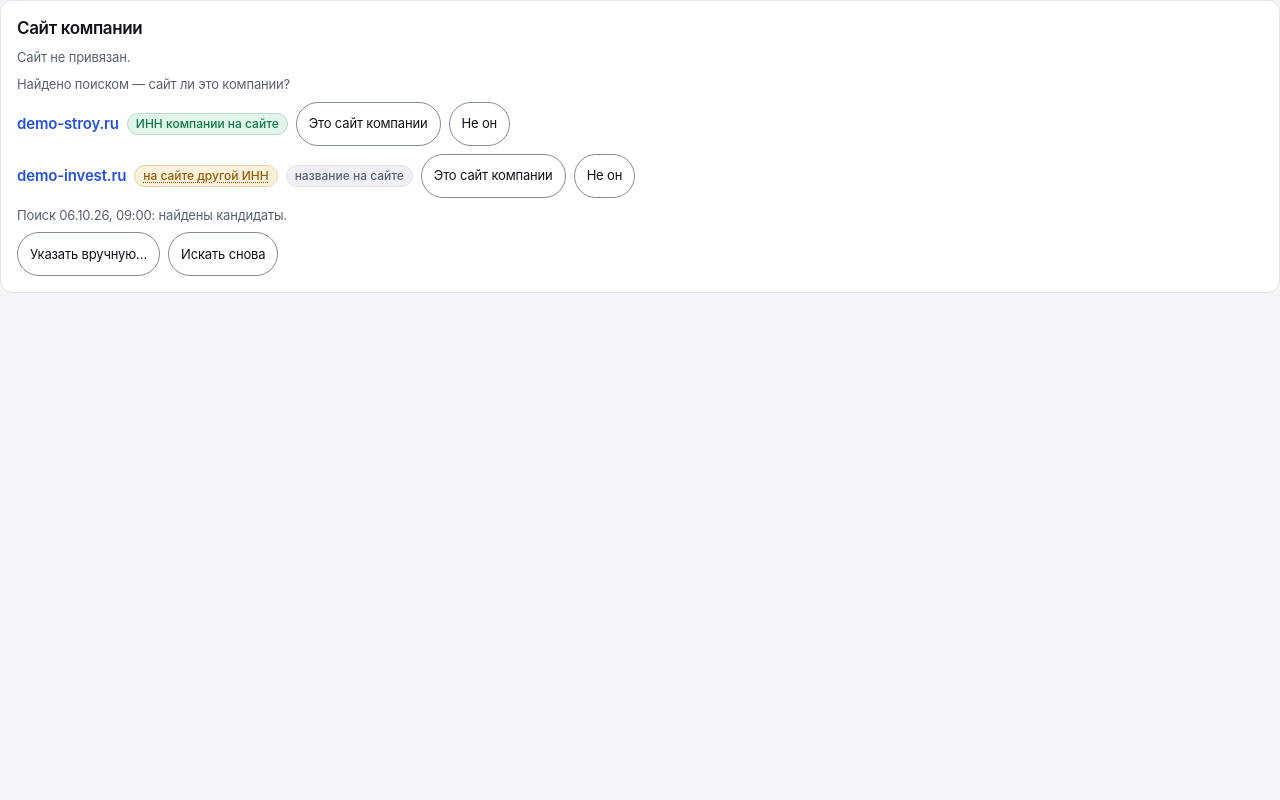
сайт компании на карточке › оператор: признаки проверки словами, без строк подробностей; «Это сайт компании» отправляет решение
Expected: the text "ИНН компании на сайте" is shown, [127,112,288,135]
Expected: the text "на сайте другой ИНН" is shown, [134,164,278,187]
Click the button named "Это сайт компании — demo-stroy.ru": coordinates (368, 124) [296,102,440,146]
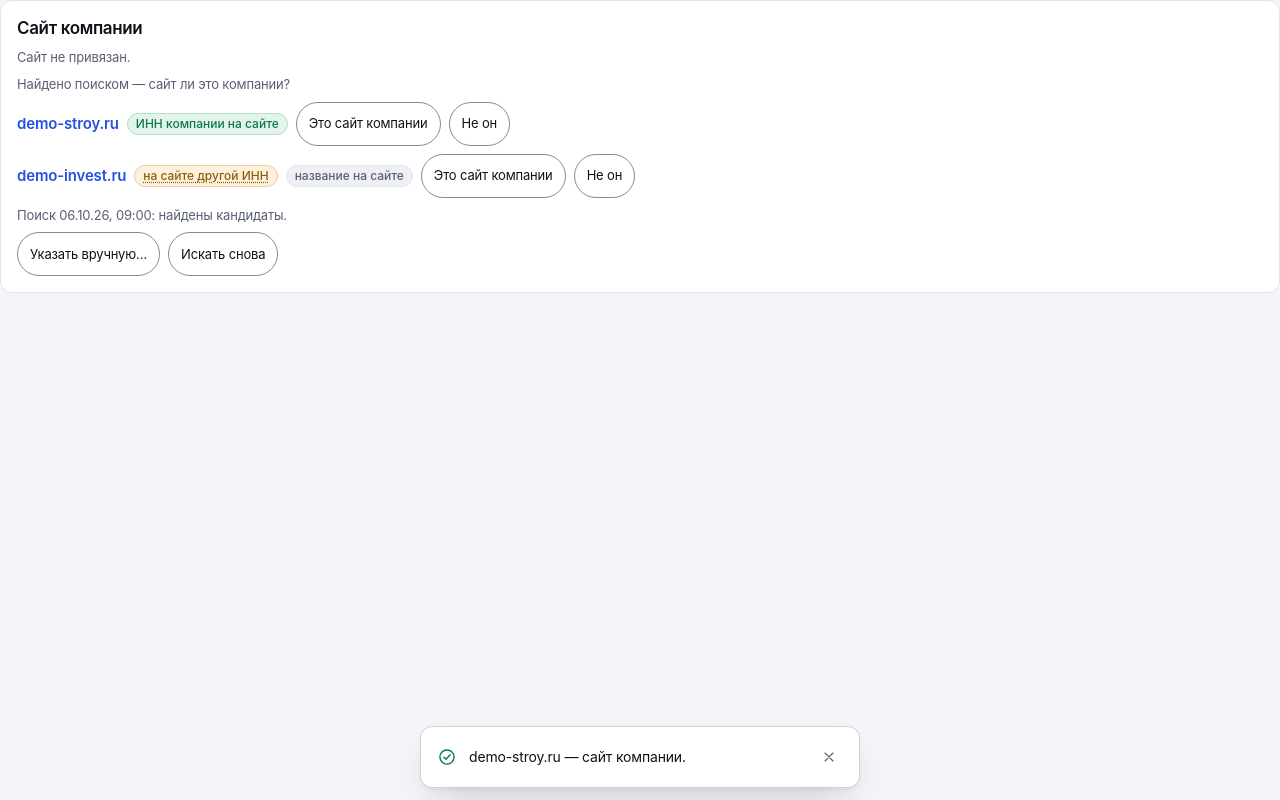
Expected: the text "demo-stroy.ru — сайт компании." is shown, [469,748,686,764]
